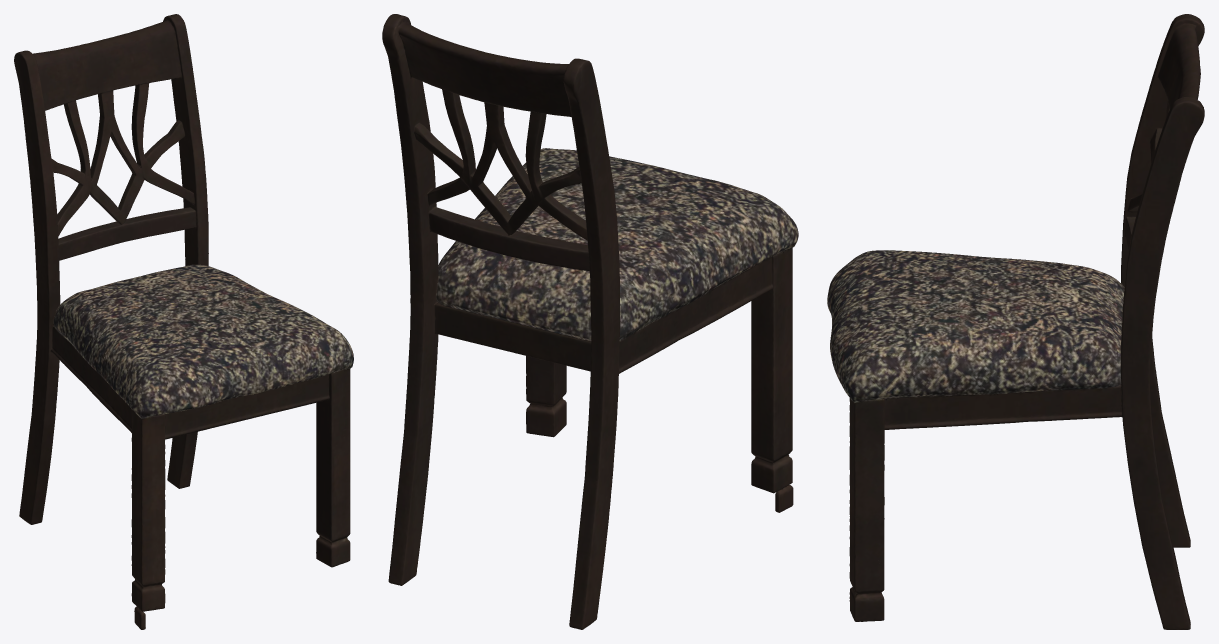
The model's file is B00EUL2B16.glb.
3 views of the same model, side by side, from view 1: azimuth 30°, elevation 25°; view 2: azimuth 150°, elevation 25°; view 3: azimuth 270°, elevation 25° (orthographic). The views are drawn at different scales.
Parts seen in each view (by area): view 1: geometry_0; view 2: geometry_0; view 3: geometry_0.
Boxes of the visible parts, bbox=[...] form: geometry_0: bbox=[14, 14, 353, 629]; geometry_0: bbox=[382, 14, 798, 629]; geometry_0: bbox=[827, 14, 1204, 629].
Bounding box in the file's own units: 0.3942 × 0.8028 × 0.5195.
1 material, 1 textured.
